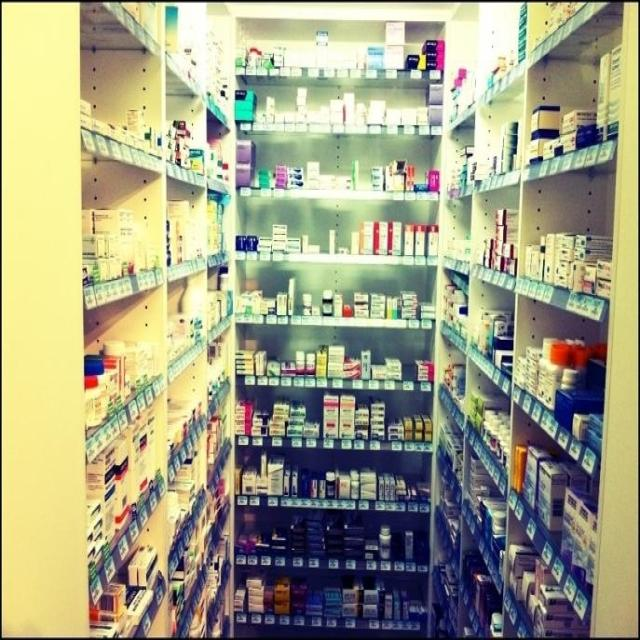Medical Waste: (81, 6, 640, 640)
